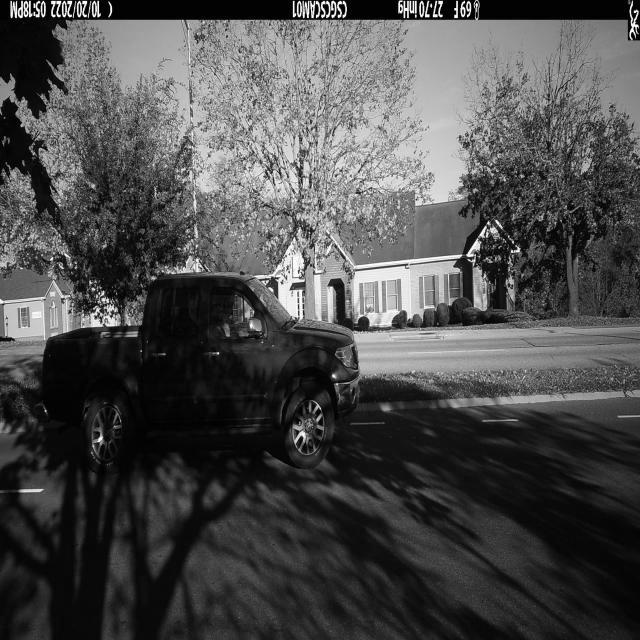Pickup: (41, 274, 361, 476)
